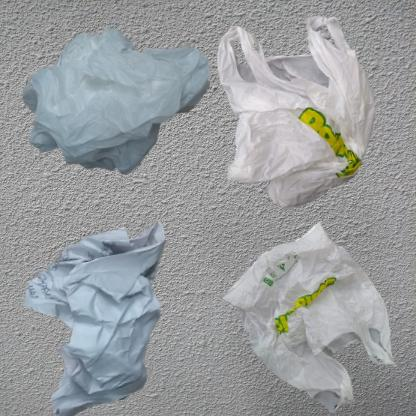bolsa: (10, 10, 239, 201), (213, 213, 408, 416), (213, 10, 387, 219)
papel: (10, 213, 206, 416)
